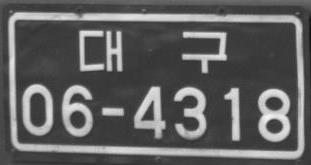0: (21, 82, 53, 135)
1: (218, 86, 252, 141)
3: (173, 86, 207, 141)
4: (133, 85, 165, 139)
6: (61, 84, 93, 137)
8: (257, 87, 291, 142)
대구_D: (78, 29, 227, 73)
